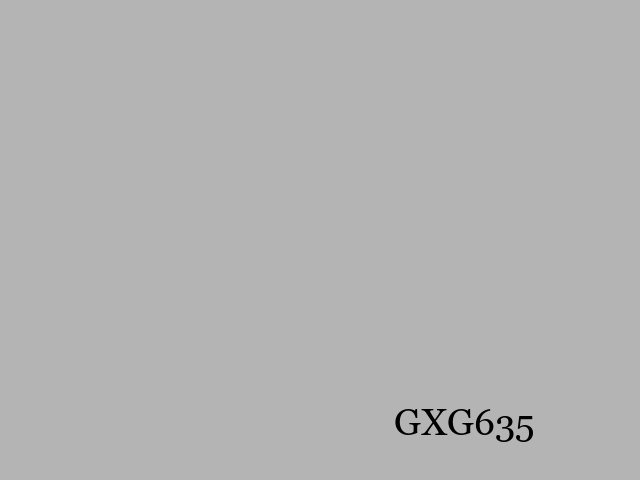OCR_AREA: (390, 405, 539, 446)
